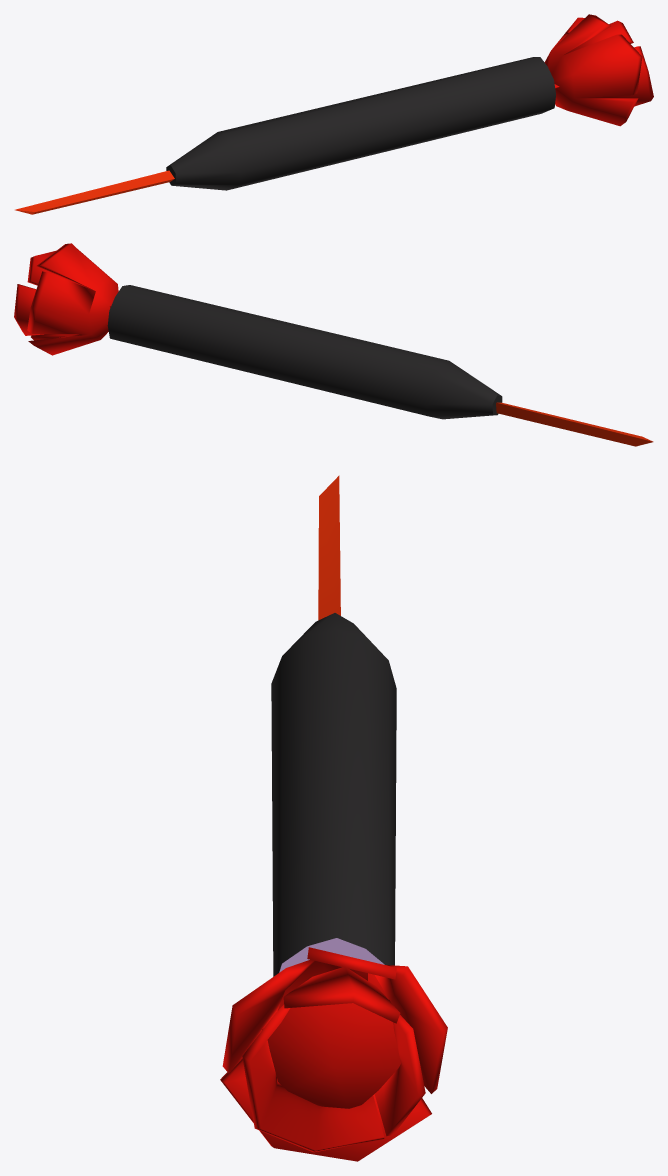
Rendered from crossbow_dart_msi.fbx.
3 renders of one model, top to bottom at view 1: azimuth 30°, elevation 25°; view 2: azimuth 150°, elevation 25°; view 3: azimuth 270°, elevation 25°, orthographic. The views are drawn at different scales.
Parts seen in each view (by area): view 1: DartGun.001; view 2: DartGun.001; view 3: DartGun.001.
Boxes of the visible parts, x1,y1,x2,y2 form: DartGun.001: (15,14,653,214); DartGun.001: (14,243,653,446); DartGun.001: (220,475,447,1161).
Bounding box in the file's own units: 284 × 45.14 × 45.14.
